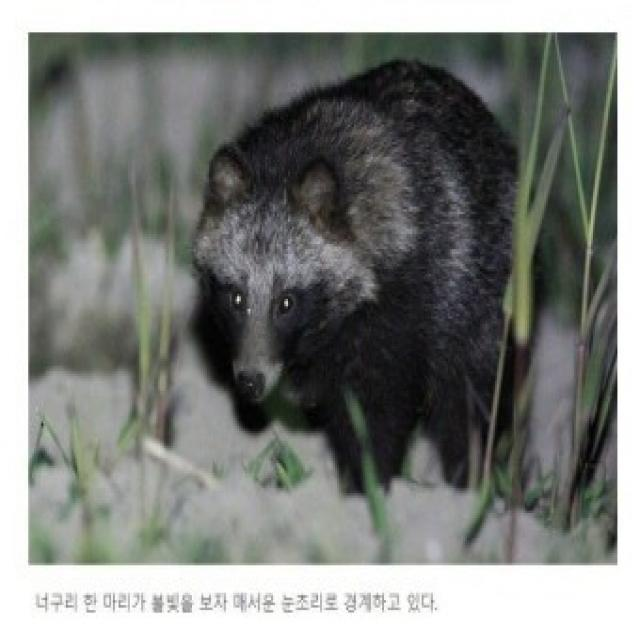racoon: (192, 57, 519, 500)
